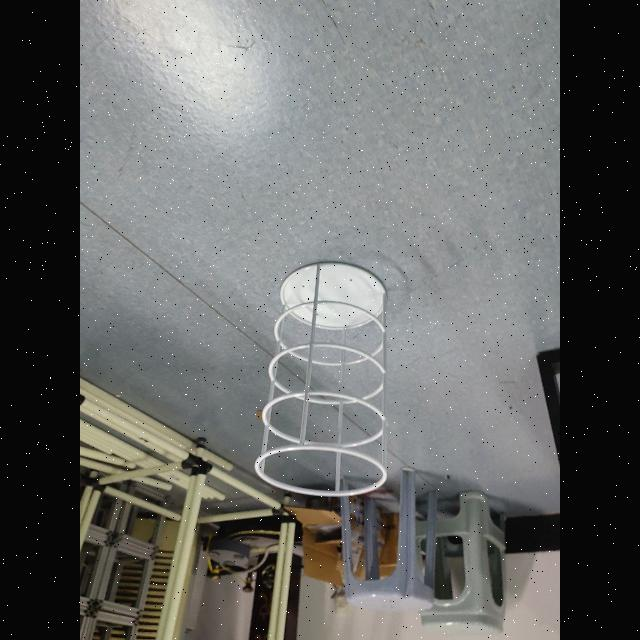S: (249, 258, 393, 502)
